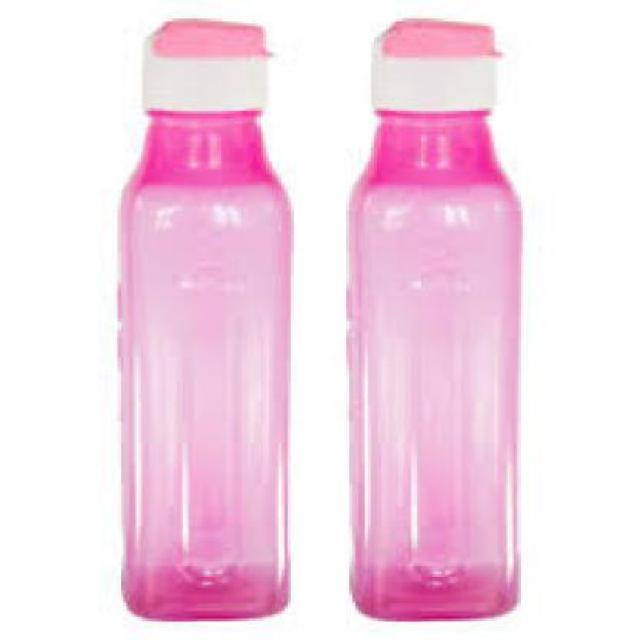Drinking: (324, 0, 554, 628), (111, 13, 291, 622)
